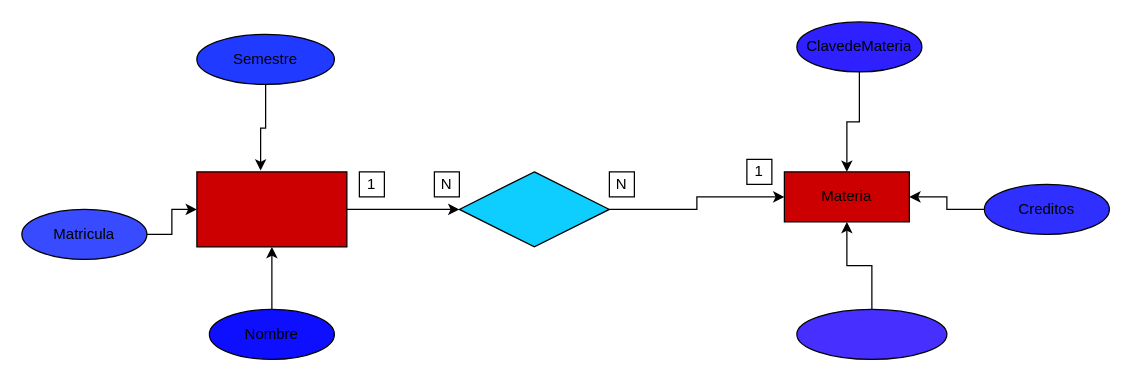
This 1131x381 diagram has some shape labels left out. The box of each missing label's shape, as (x1, y1, x2, y2) in pixels:
Alumno: (196, 171, 347, 247)
Inscrito: (458, 171, 609, 247)
NombredelaMateria: (796, 308, 947, 359)
